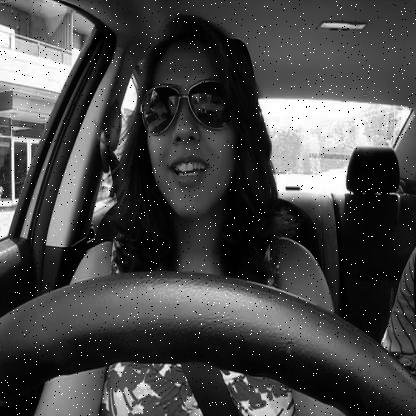seatbelt: (92, 5, 270, 416)
